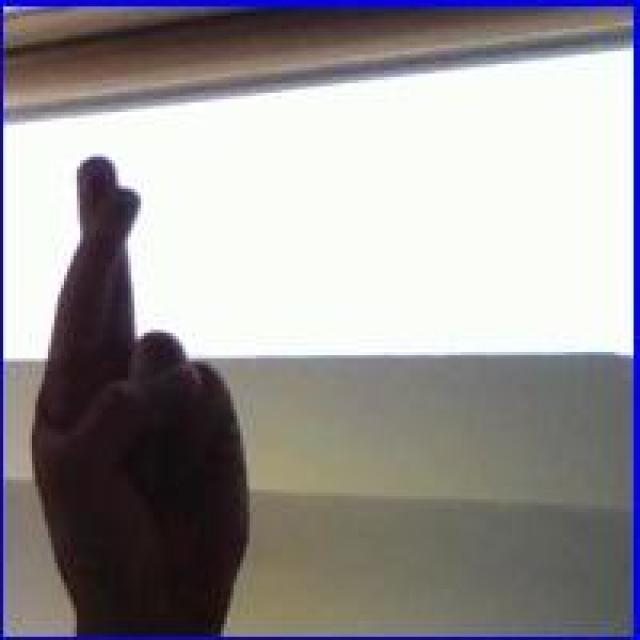R: (27, 152, 258, 626)
